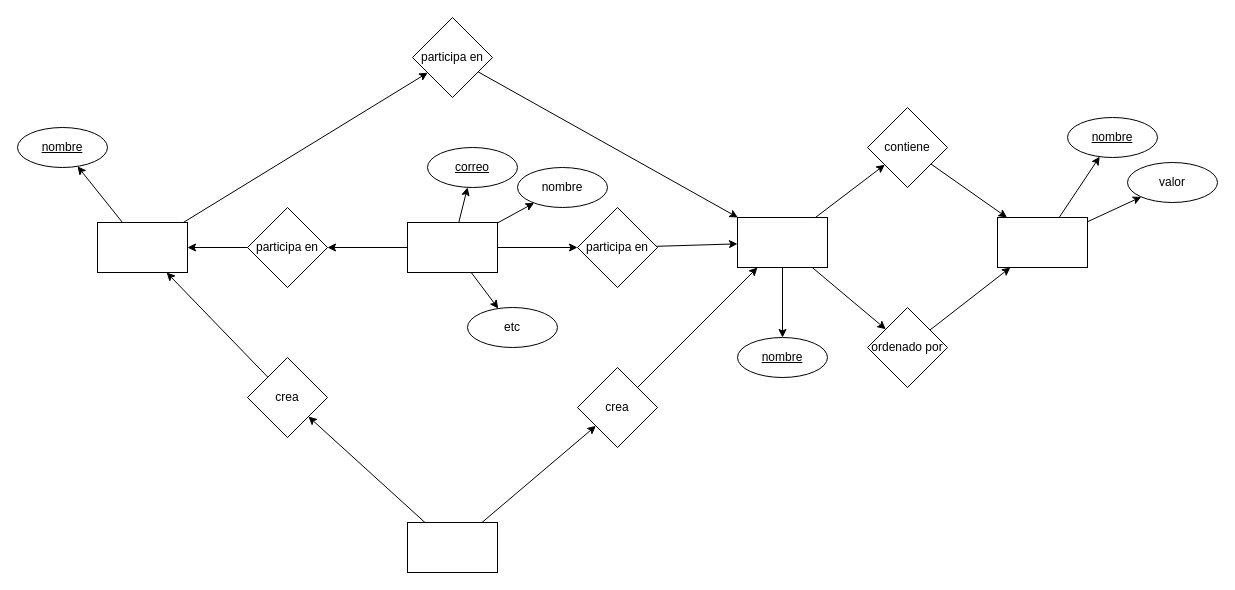
This 1235x590 diagram has some shape labels left out. The shapes that lost their labels are listed below. From the top down, each one's box as (x1, y1, x2, y2) in pixels, then its label:
(96, 222, 188, 272): equipo
(406, 222, 498, 272): jugador
(736, 216, 828, 268): torneo
(996, 216, 1088, 268): categoría
(406, 522, 498, 572): admin
